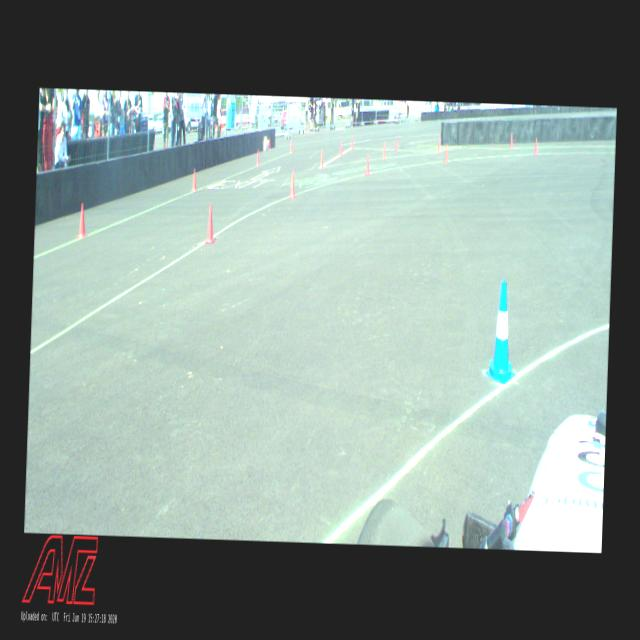blue_cone: (484, 281, 518, 386)
unknown_cone: (205, 202, 216, 244), (76, 202, 88, 236), (288, 170, 296, 199), (190, 168, 198, 192), (364, 154, 370, 174), (318, 148, 324, 168), (532, 138, 538, 156), (508, 133, 514, 148), (381, 142, 386, 158), (255, 149, 260, 165), (444, 144, 448, 162), (349, 136, 354, 149), (436, 138, 440, 154), (289, 140, 293, 153), (339, 141, 342, 155), (394, 138, 397, 152)
